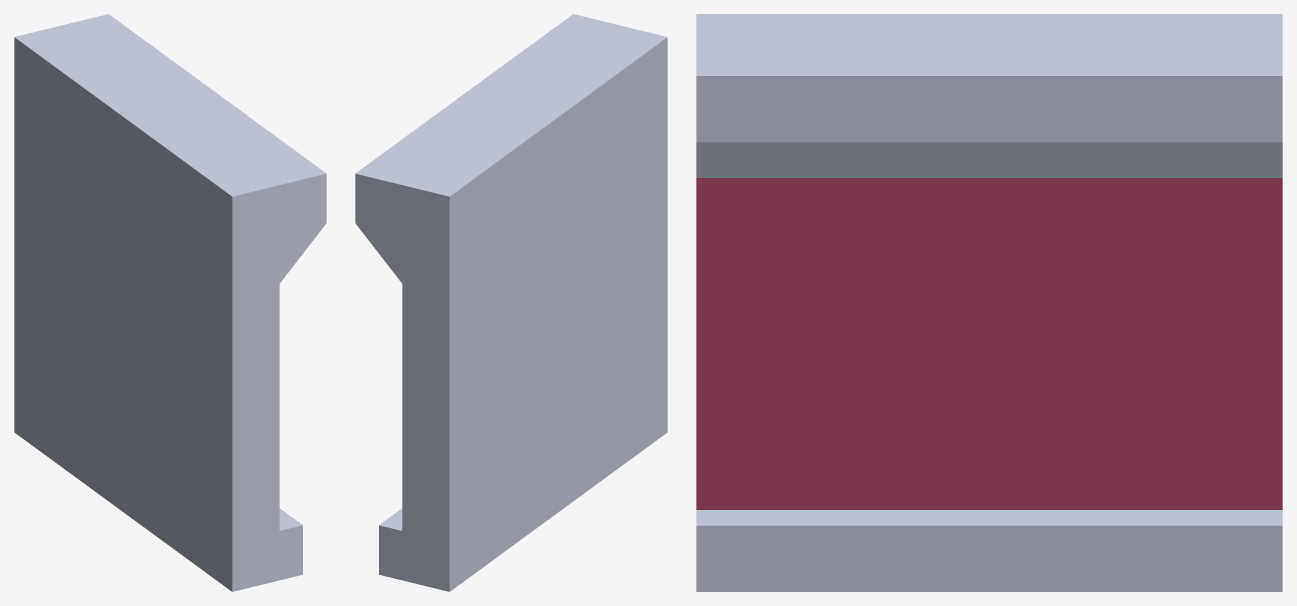
The model's file is spaceInterior_052.obj.
3 renders of one model, left to right at view 1: azimuth 30°, elevation 25°; view 2: azimuth 150°, elevation 25°; view 3: azimuth 270°, elevation 25°, orthographic. The views are drawn at different scales.
Parts seen in each view (by area): view 1: Mesh1 Group1 Model; view 2: Mesh1 Group1 Model; view 3: Mesh1 Group1 Model.
Part boxes in pixels (x1=…): Mesh1 Group1 Model: x1=14, y1=14, x2=326, y2=591; Mesh1 Group1 Model: x1=355, y1=14, x2=667, y2=591; Mesh1 Group1 Model: x1=696, y1=14, x2=1282, y2=591.
Bounding box in the file's own units: 0.25 × 1 × 1.
